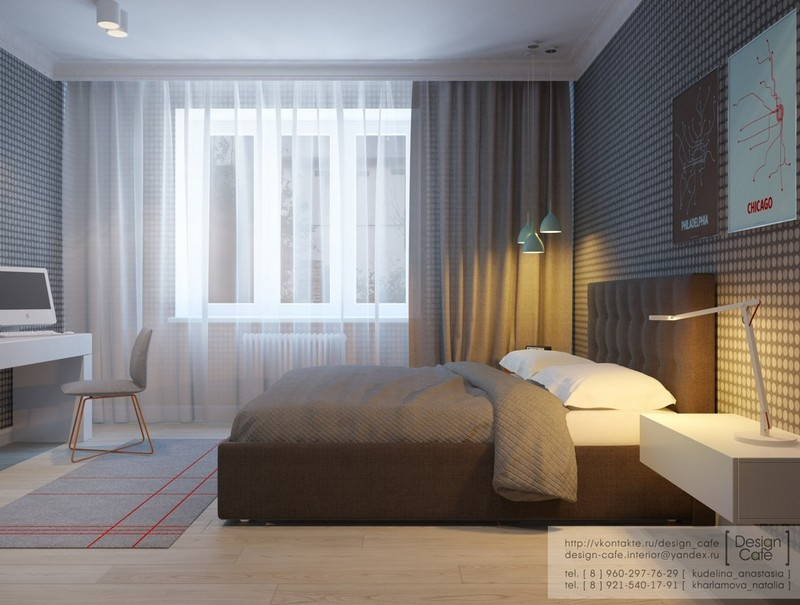bed: (213, 269, 714, 519)
chair: (62, 329, 157, 464)
lamp: (646, 294, 799, 451), (518, 174, 561, 259)
stool: (637, 408, 800, 525), (1, 331, 93, 456)
